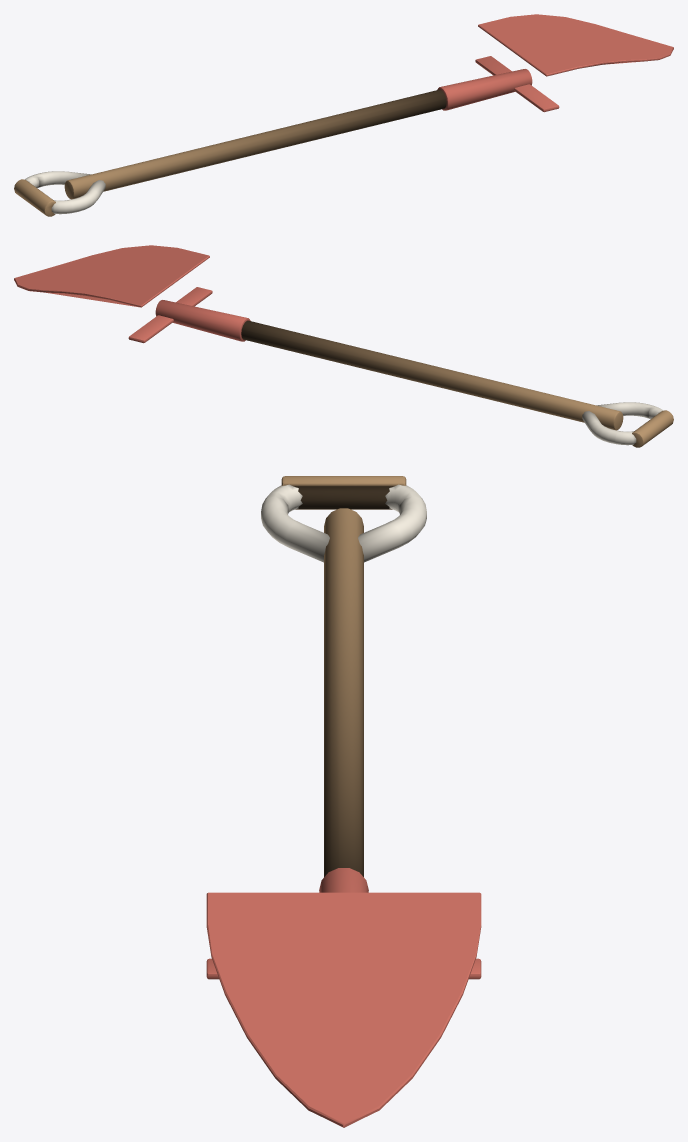
File: nd_shovel.glb
3 renders of one model, top to bottom at view 1: azimuth 30°, elevation 25°; view 2: azimuth 150°, elevation 25°; view 3: azimuth 270°, elevation 25°, orthographic. The views are drawn at different scales.
Visible parts, largest first — view 1: PART; view 2: PART; view 3: PART.
Part boxes in pixels (x1,y1,x2,y2): PART: (14, 14, 673, 216); PART: (14, 245, 673, 447); PART: (206, 476, 481, 1127).
Size of the model in its own units: 1.19 by 0.0768 by 0.22.
